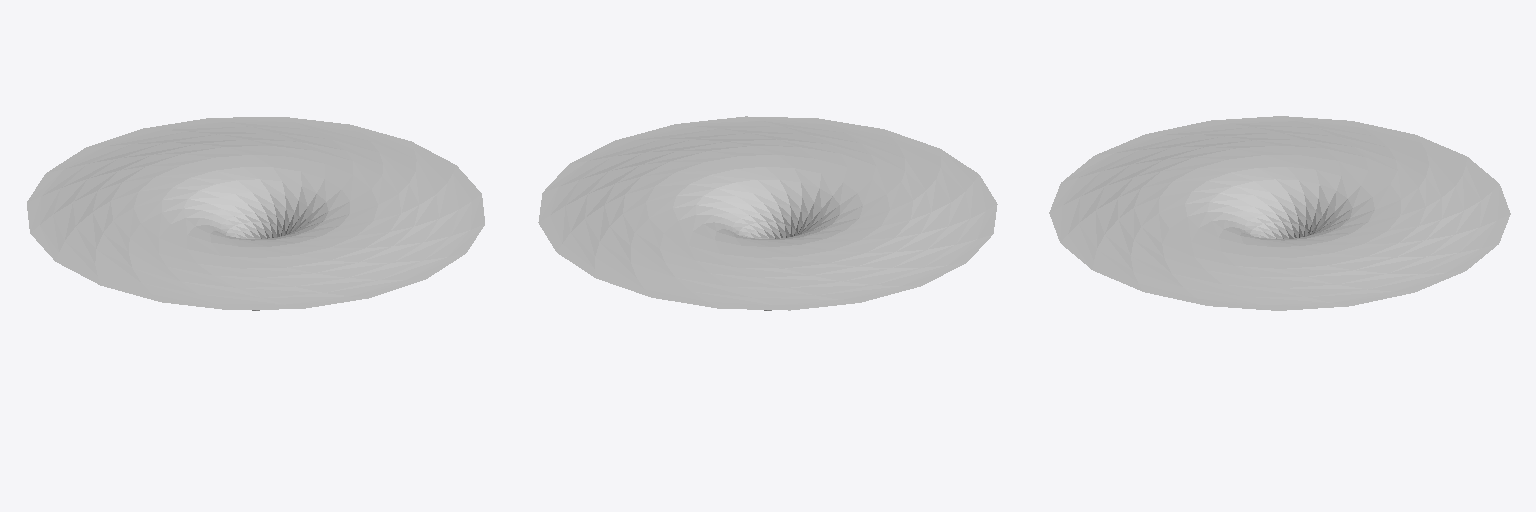
The model's file is Eye of Storm 1.obj.
3 views of the same model, side by side, from view 1: azimuth 30°, elevation 25°; view 2: azimuth 150°, elevation 25°; view 3: azimuth 270°, elevation 25° (orthographic).
Parts seen in each view (by area): view 1: Eye_of_Storm1:pCylinder1; view 2: Eye_of_Storm1:pCylinder1; view 3: Eye_of_Storm1:pCylinder1.
Boxes of the visible parts, x1,y1,x2,y2 form: Eye_of_Storm1:pCylinder1: [27, 117, 484, 310]; Eye_of_Storm1:pCylinder1: [538, 116, 997, 310]; Eye_of_Storm1:pCylinder1: [1049, 116, 1510, 310].
Bounding box in the file's own units: 27.39 × 6.5 × 27.39.